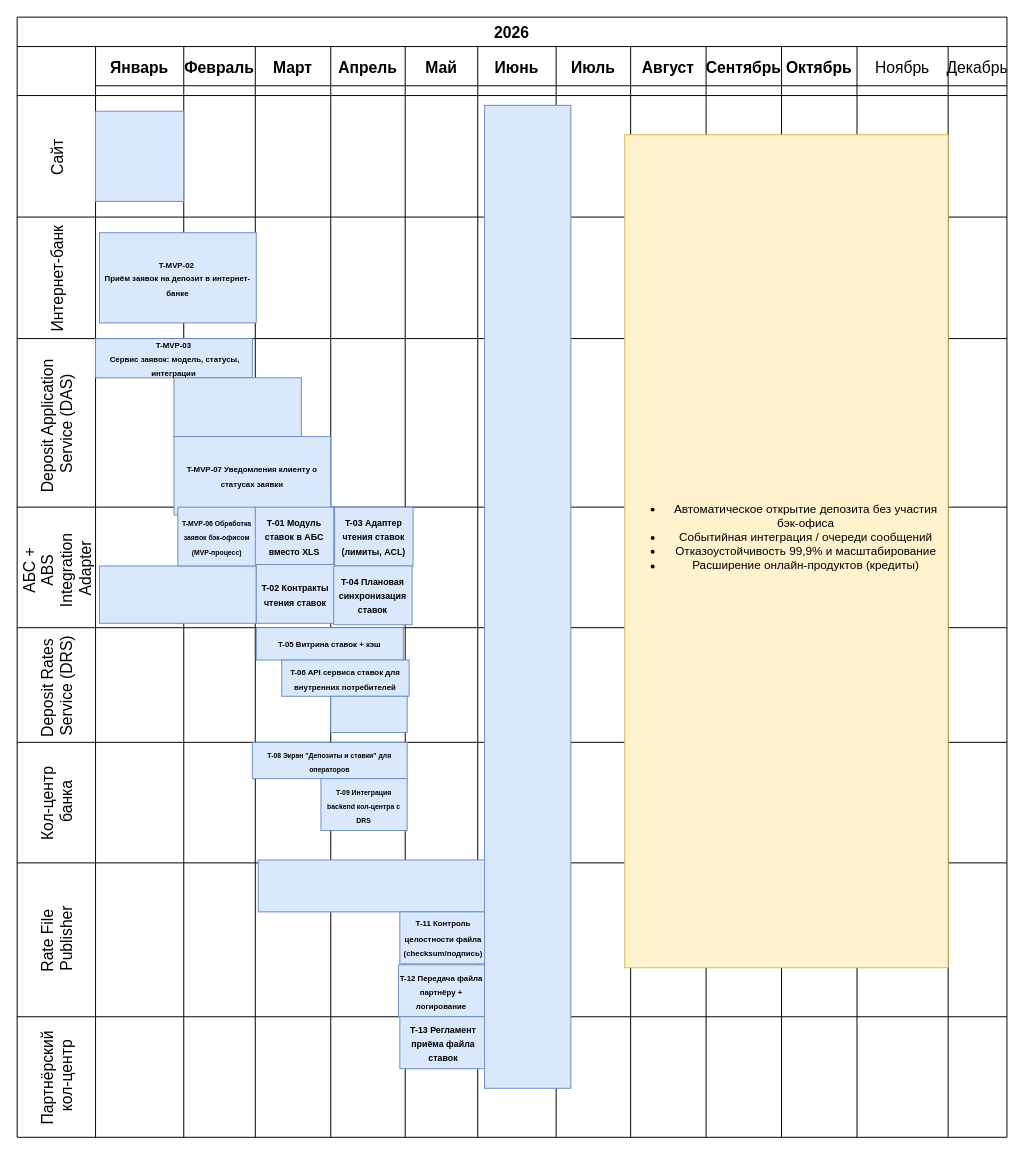
The diagram is 1025 pixels wide and 1154 high, and some of its shapes have lost their labels. The shapes that lost their labels are listed below. From the top down, each one's box as (x1, y1, x2, y2) in pixels, then its label:
(95, 110, 184, 201): T-MVP-01 Приём заявок на депозит с сайта
(173, 377, 301, 437): T-MVP-04 Подтверждение операций по СМС (OTP)
(98, 565, 256, 623): T-MVP-05 Интеграция сервиса заявок с АБС через адаптер
(484, 104, 571, 1088): Интеграционное тестирование
(330, 695, 407, 733): T-07 Документация сервиса ставок
(257, 859, 486, 912): T-10 Генерация файла ставок (CSV/XLSX)
